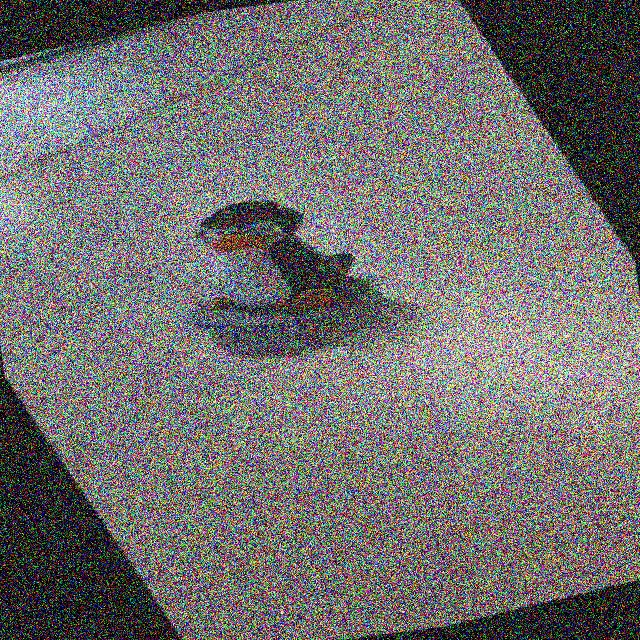Penguin: (114, 162, 418, 370)
